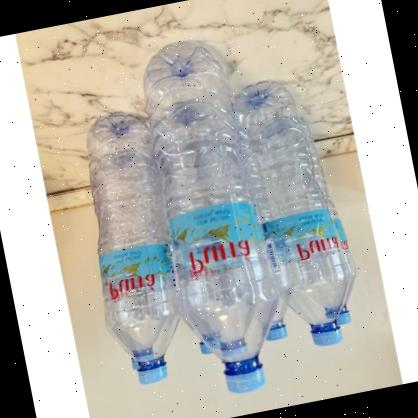bottle: (136, 33, 292, 402), (233, 66, 365, 360), (67, 107, 199, 392)
cap: (223, 362, 268, 396), (310, 325, 344, 349), (138, 364, 171, 386), (264, 324, 290, 344)
label: (164, 202, 273, 296), (264, 206, 348, 291), (94, 238, 180, 314)
